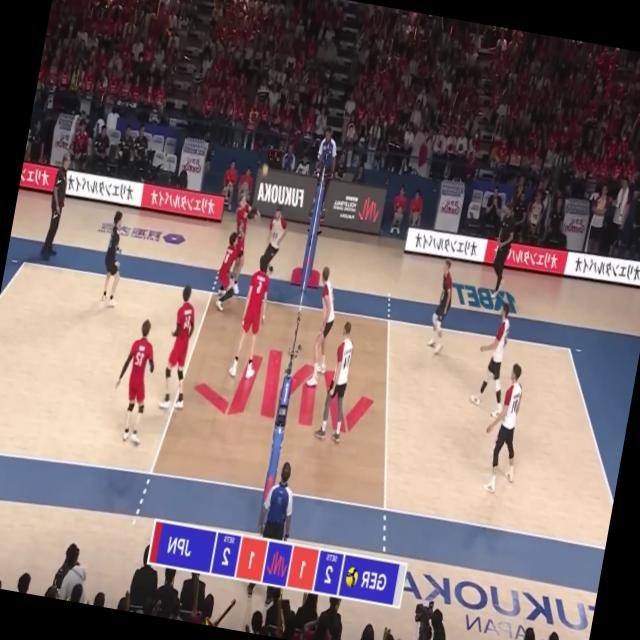referee: (245, 456, 302, 602)
team_one: (476, 360, 532, 499), (313, 318, 361, 446), (468, 300, 514, 410), (302, 266, 342, 391), (424, 256, 459, 358), (254, 204, 290, 279)
team_two: (106, 318, 164, 448), (227, 251, 276, 381), (158, 282, 202, 412), (96, 210, 133, 308), (222, 195, 256, 294), (211, 231, 244, 313)
